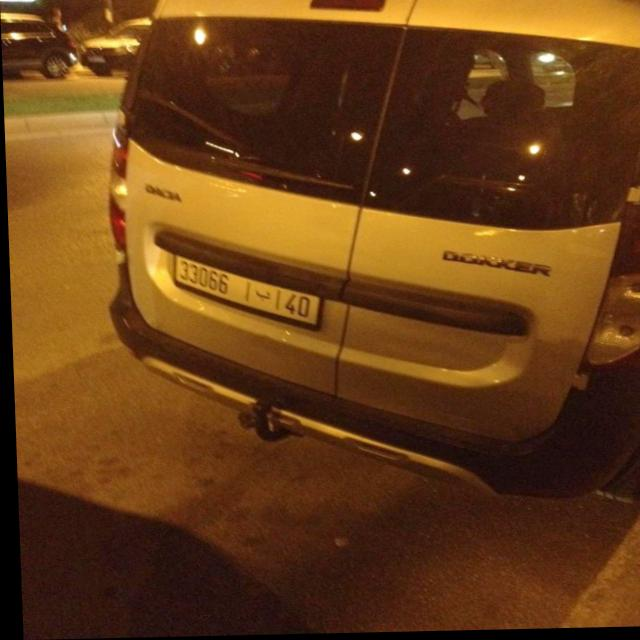License-Plate: (172, 256, 319, 327)
